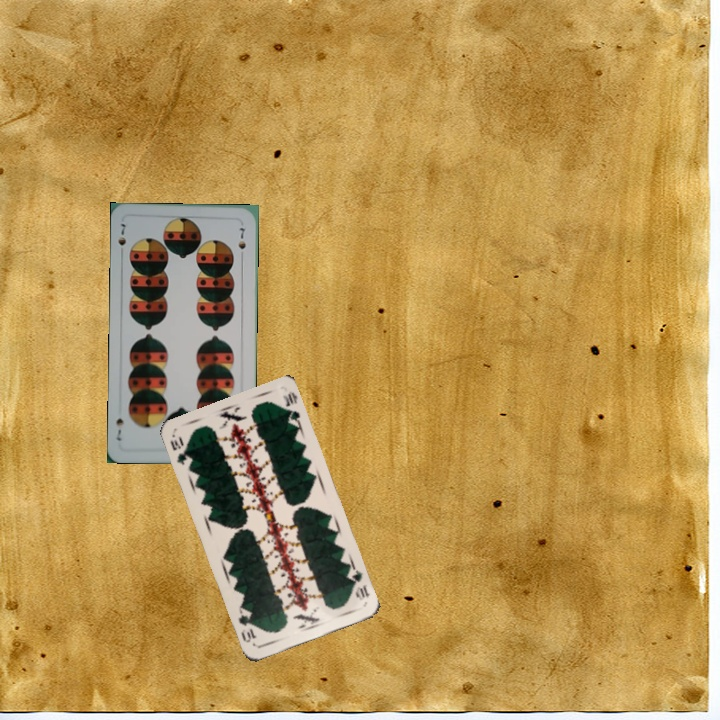G10: (346, 565, 373, 603), (166, 432, 192, 468)
S7: (114, 220, 128, 258)
